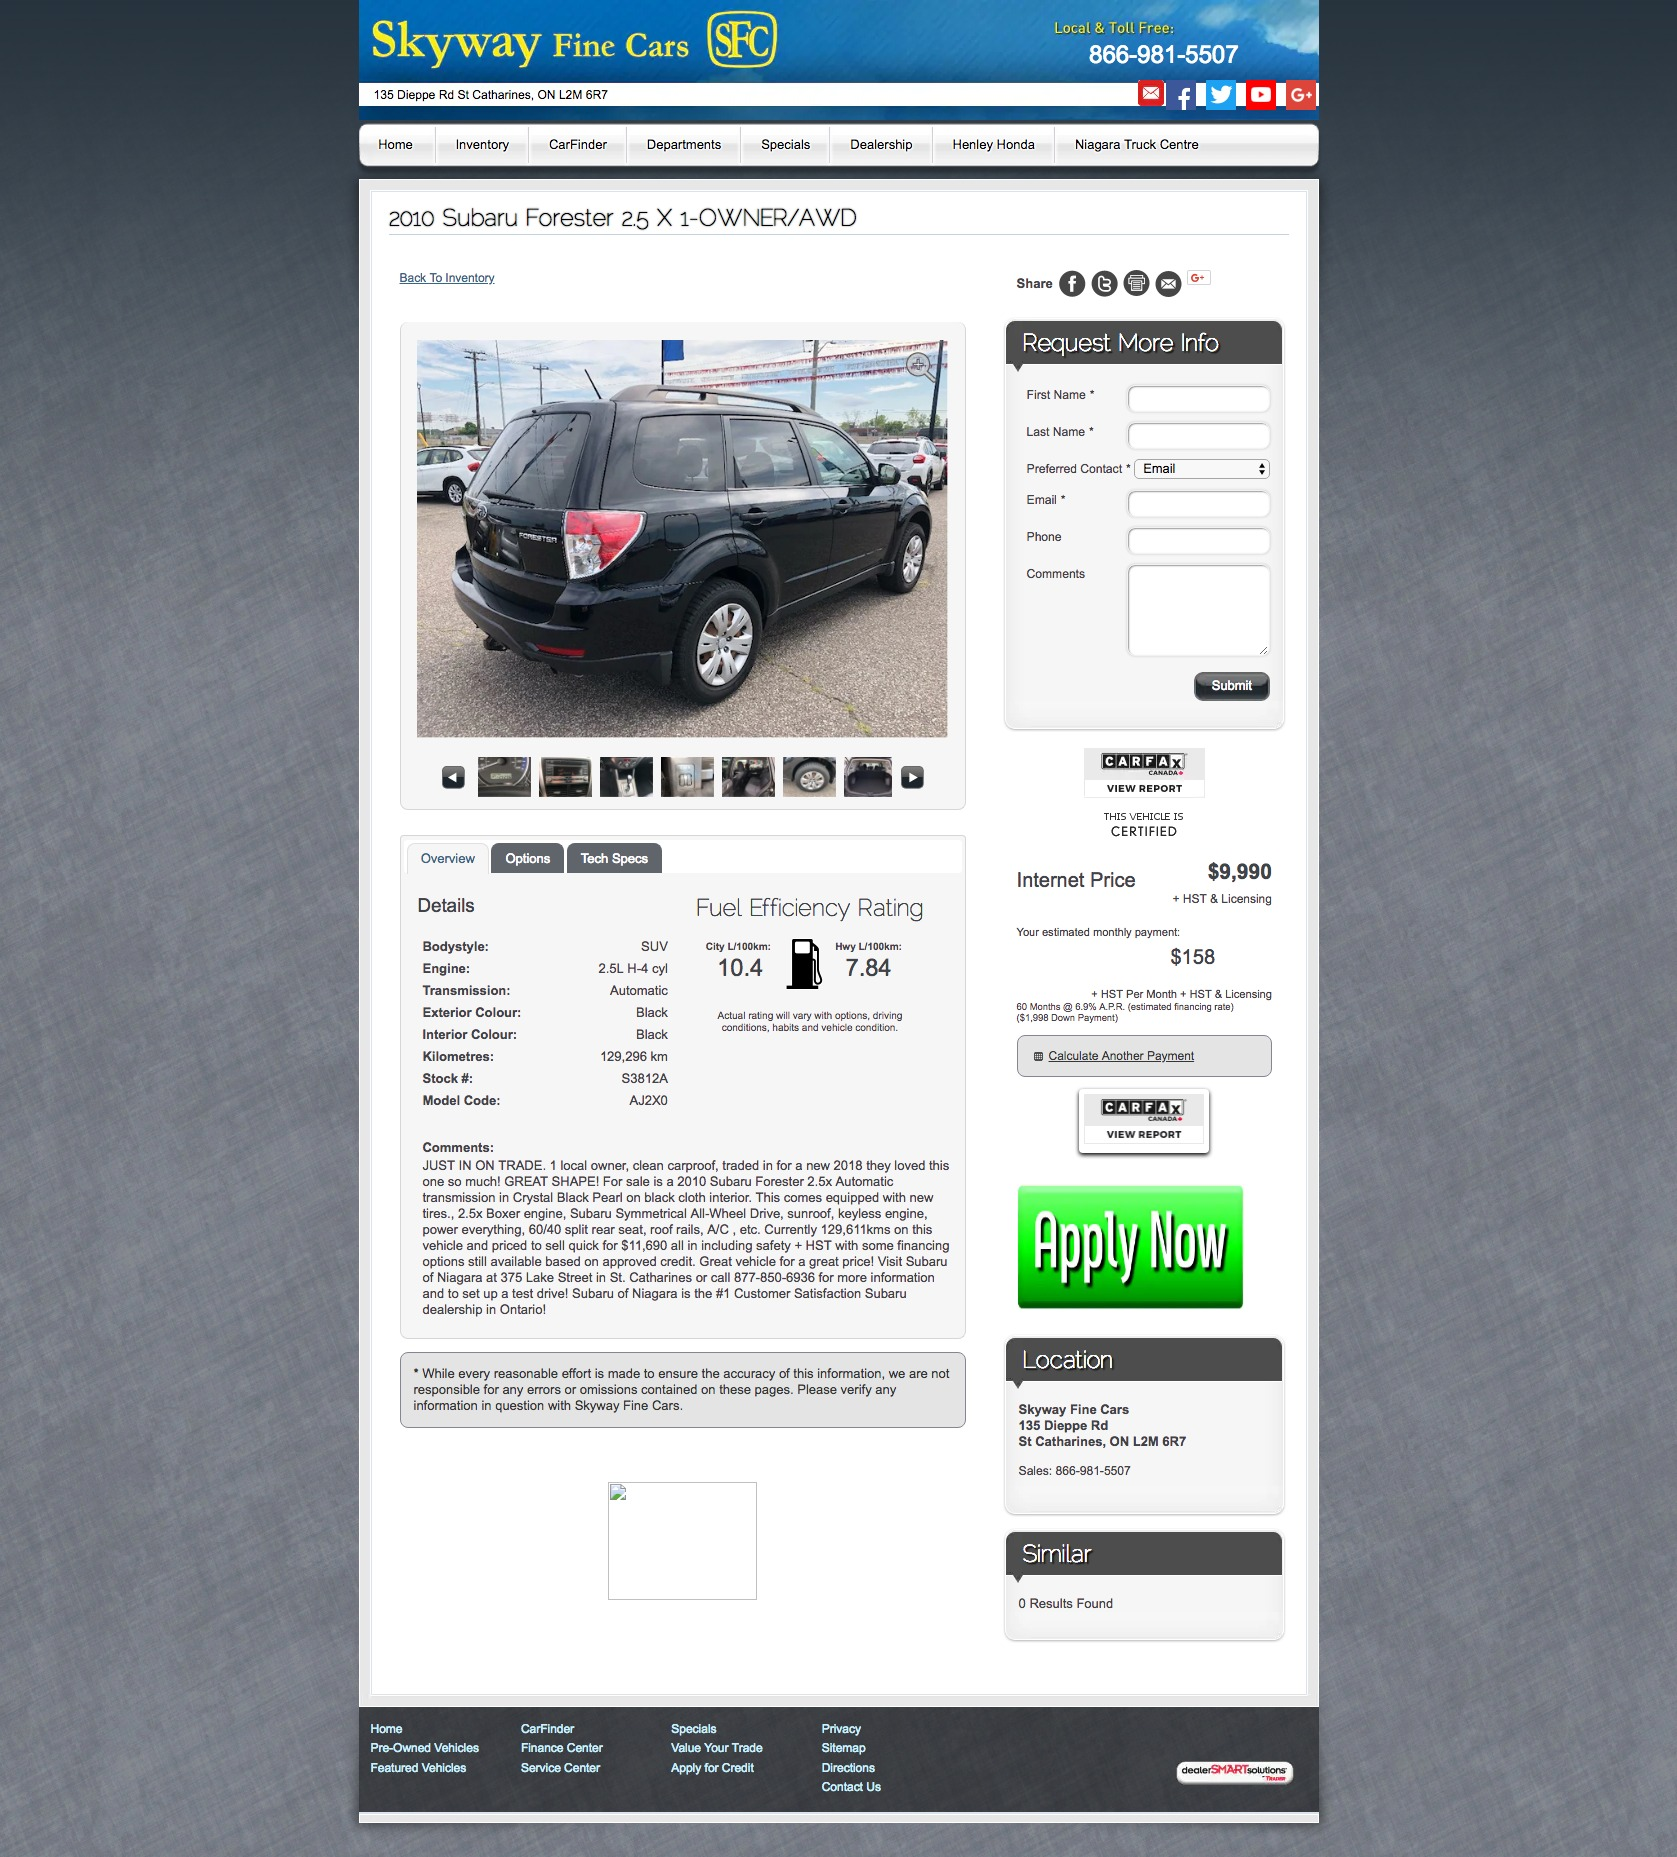car: (901, 767, 925, 789)
